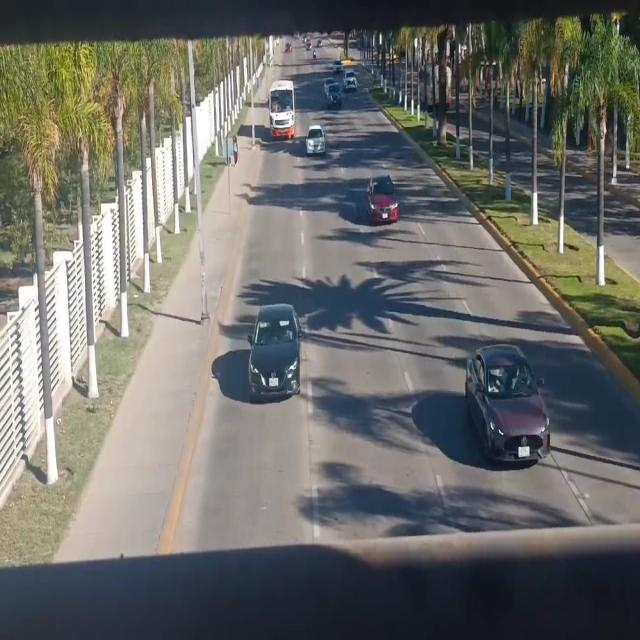Auto: (462, 344, 550, 468), (248, 296, 302, 404), (366, 173, 402, 224), (304, 123, 328, 157)
Autobus: (267, 80, 297, 144)
